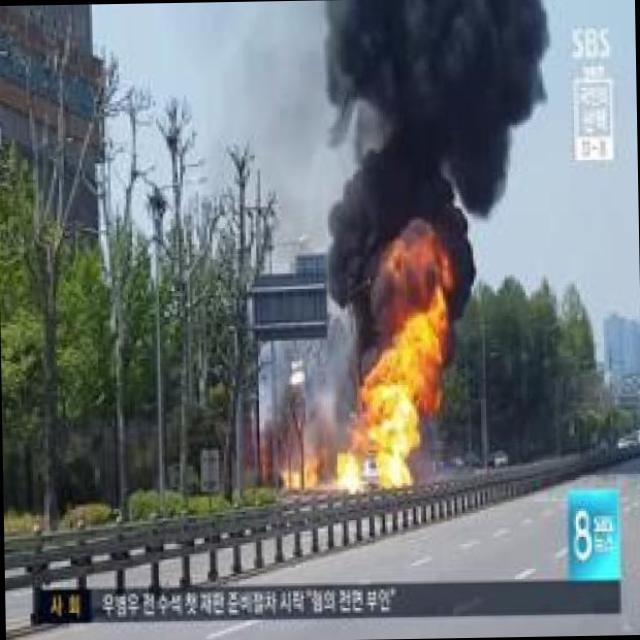Fire: (360, 372, 412, 491), (400, 299, 447, 380), (338, 444, 359, 494), (411, 383, 438, 418), (284, 466, 319, 491)
